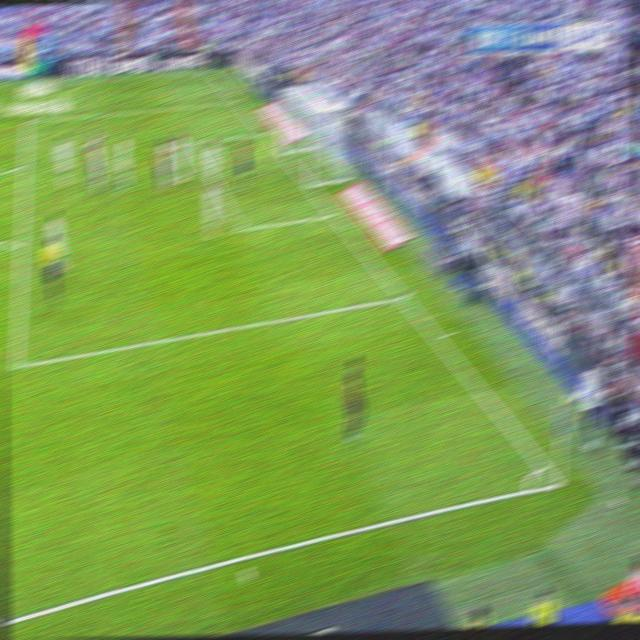bigarea_bottom_inner: (232, 219, 246, 237)
bigarea_top_outter: (230, 95, 242, 104)
bottom_arc_area_intersection: (396, 288, 410, 305)
corner: (202, 66, 214, 74)
smallarea_bottom_outter: (327, 205, 340, 222)
smallarea_top_outter: (260, 127, 272, 138)
